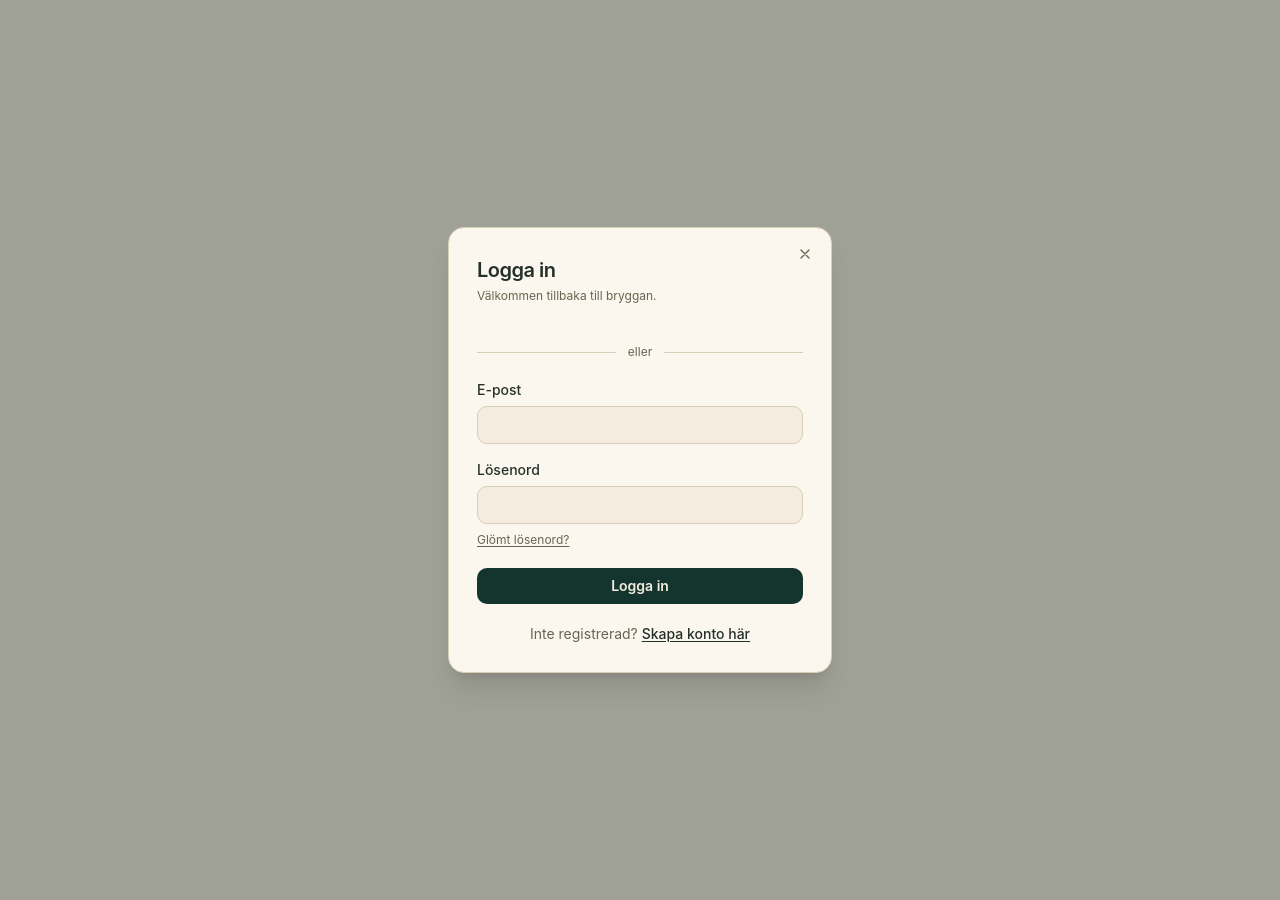
Test: AuthDialog — email verification › forgot-password flow requests a reset and shows the check-inbox panel
The image size is (1280, 900).
Click the button "Glömt lösenord?": (523, 540) 477,532 -> 569,548
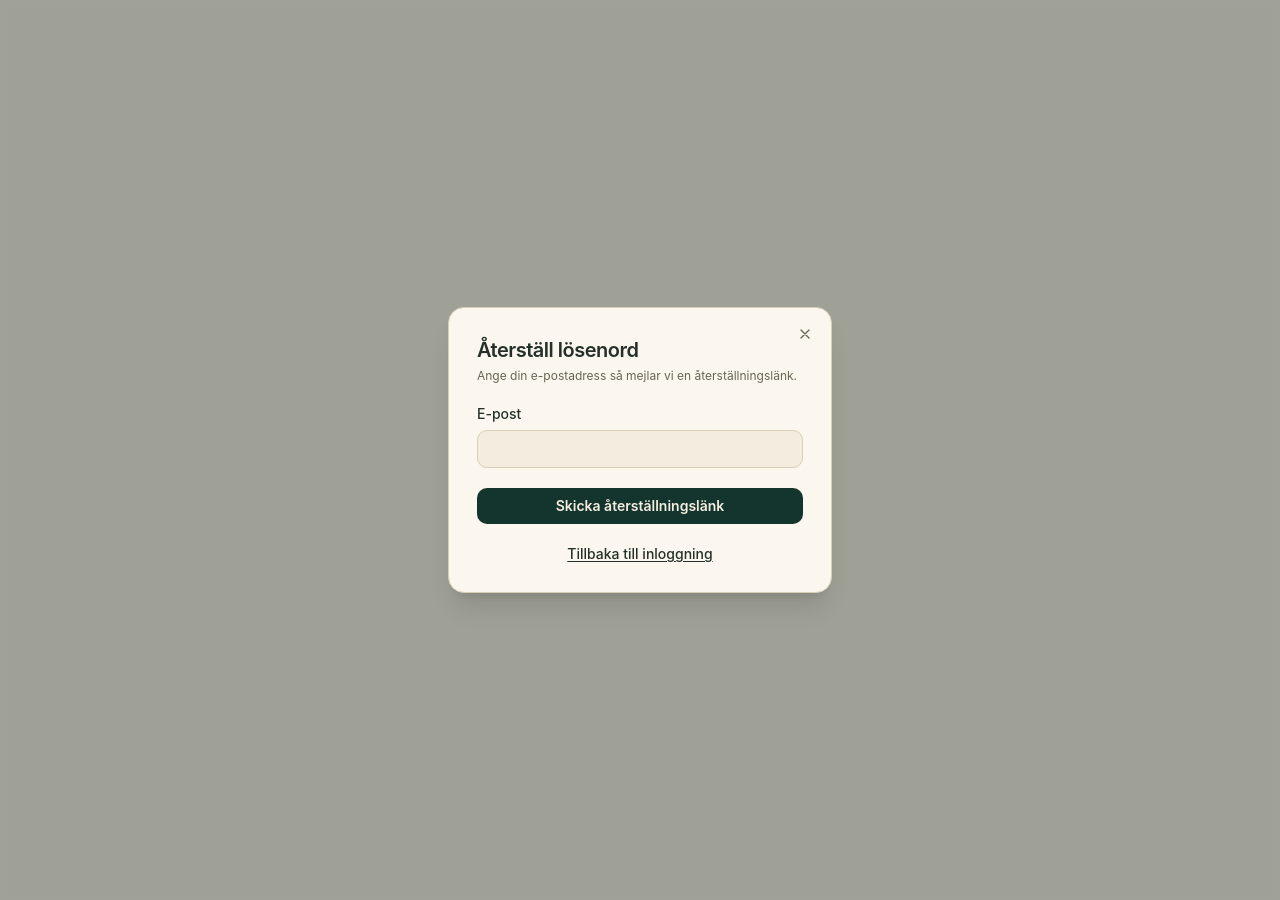
In the field labelled "E-post": (640, 449) 477,430 -> 803,468, type "anna@example.com"
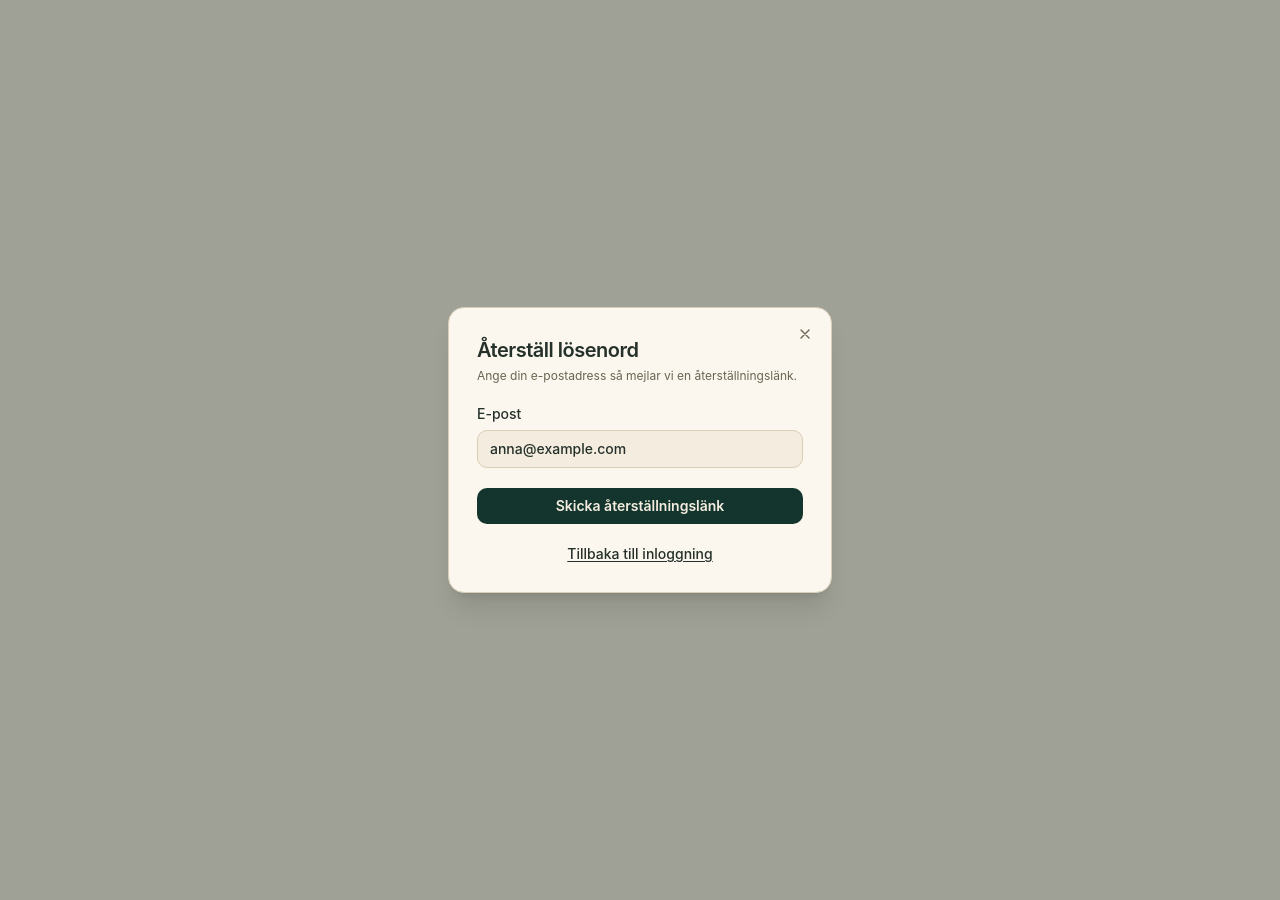
Submit the form from the button "Skicka återställningslänk", box 477,488 -> 803,524
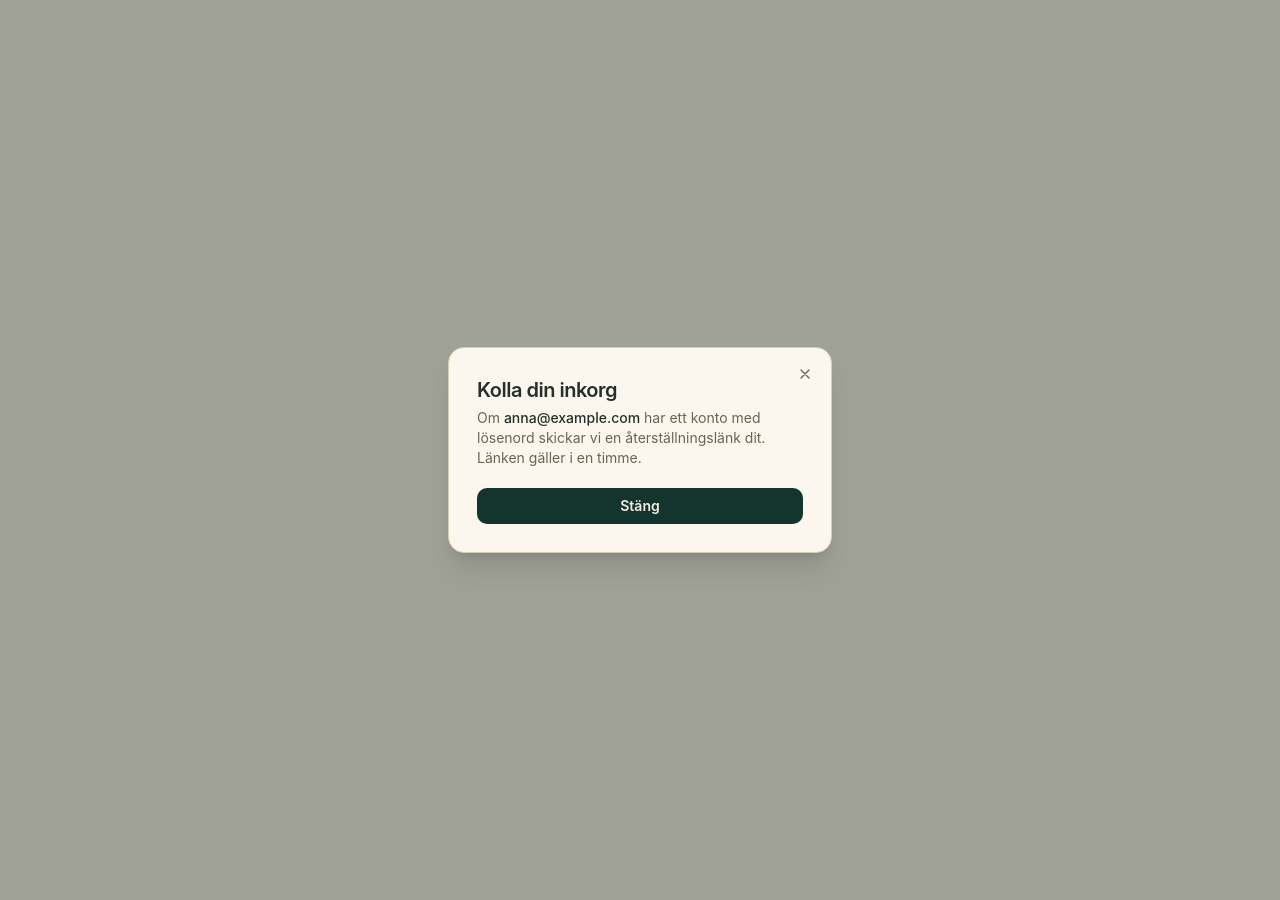
Result: the heading "Kolla din inkorg" is shown at 477,378 -> 617,402
